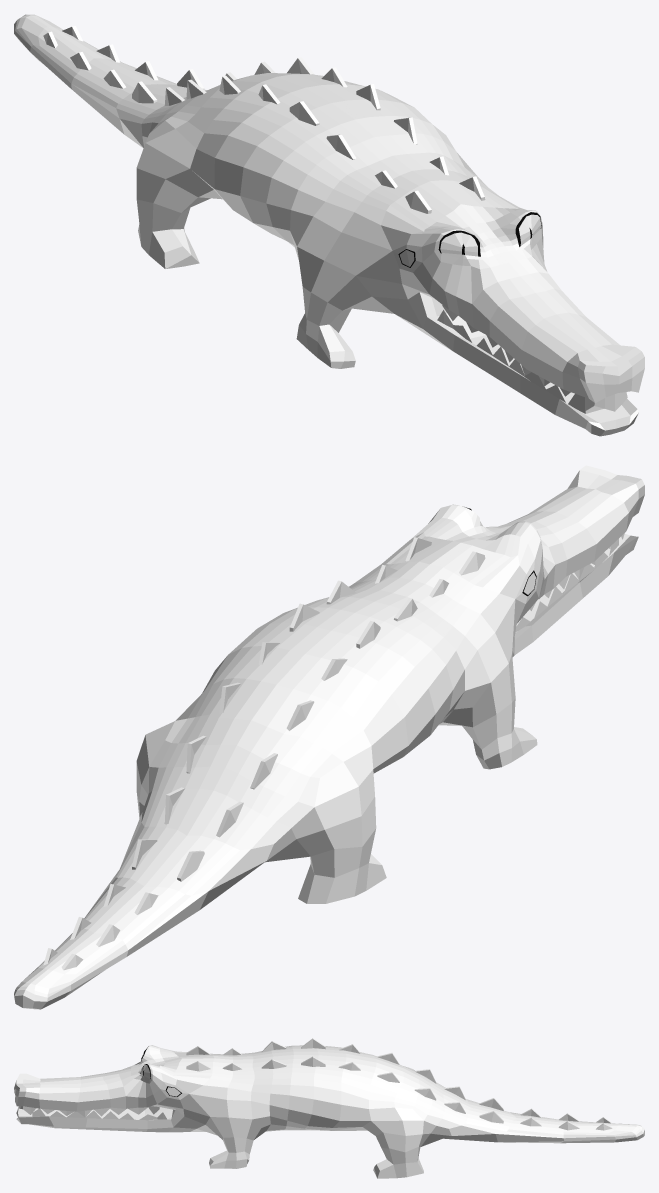
The model's file is Aligator.fbx.
3 renders of one model, top to bottom at view 1: azimuth 30°, elevation 25°; view 2: azimuth 150°, elevation 25°; view 3: azimuth 270°, elevation 25°, orthographic. The views are drawn at different scales.
Parts seen in each view (by area): view 1: Aligator; view 2: Aligator; view 3: Aligator.
Boxes of the visible parts, <box> form: Aligator: <box>14,14,644,436</box>; Aligator: <box>14,465,644,1009</box>; Aligator: <box>14,1038,644,1178</box>.
Size of the model in its own units: 76.5 by 63.79 by 350.
